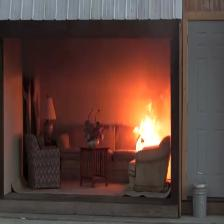fire: (132, 109, 164, 151)
